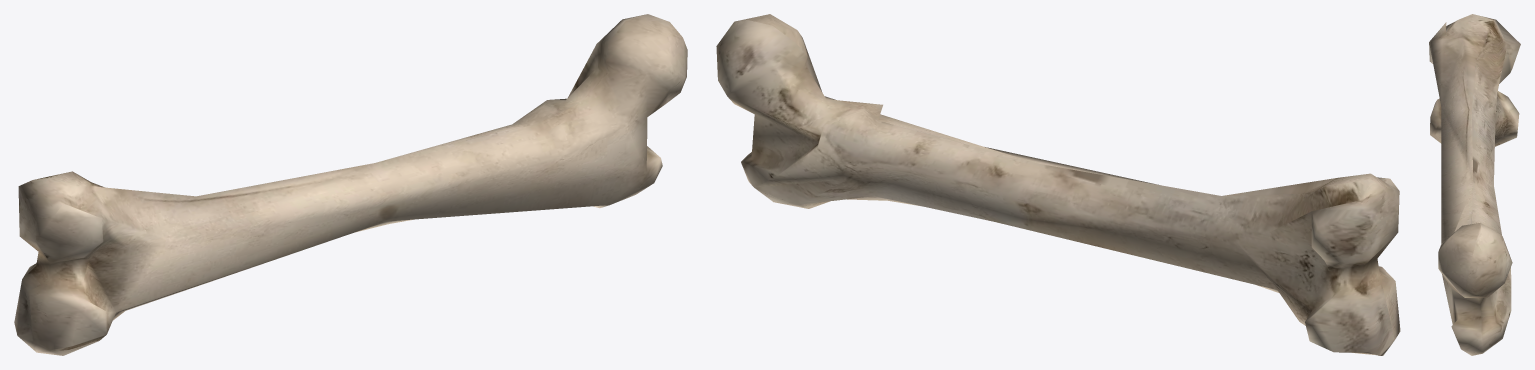
Rendered from bob-piece-long-bone.glb.
The picture shows the model from 3 angles, left to right: view 1: azimuth 30°, elevation 25°; view 2: azimuth 150°, elevation 25°; view 3: azimuth 270°, elevation 25°; orthographic projection. The views are drawn at different scales.
Visible parts, largest first — view 1: model; view 2: model; view 3: model.
Part boxes in pixels (<box>): model: <box>14,14,687,355</box>; model: <box>716,14,1400,355</box>; model: <box>1429,14,1520,355</box>.
Bounding box in the file's own units: 0.9962 × 0.2741 × 0.157.
Materials: 1 (1 with a texture image).
